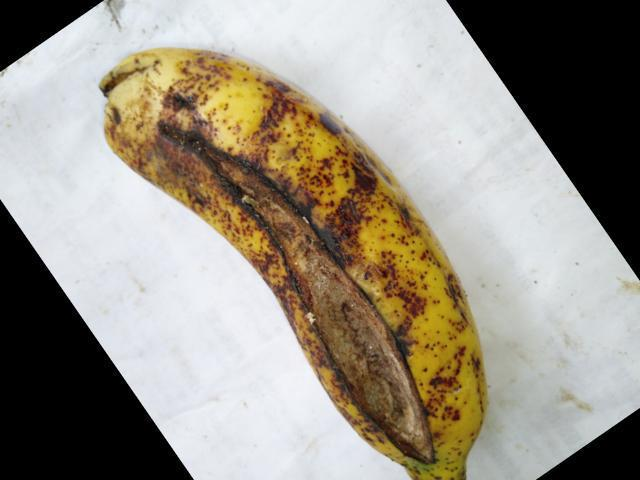rotten: (164, 130, 451, 474)
